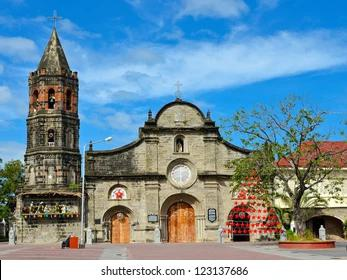barasoain_church_malolos_bulacan: (10, 15, 277, 244)
